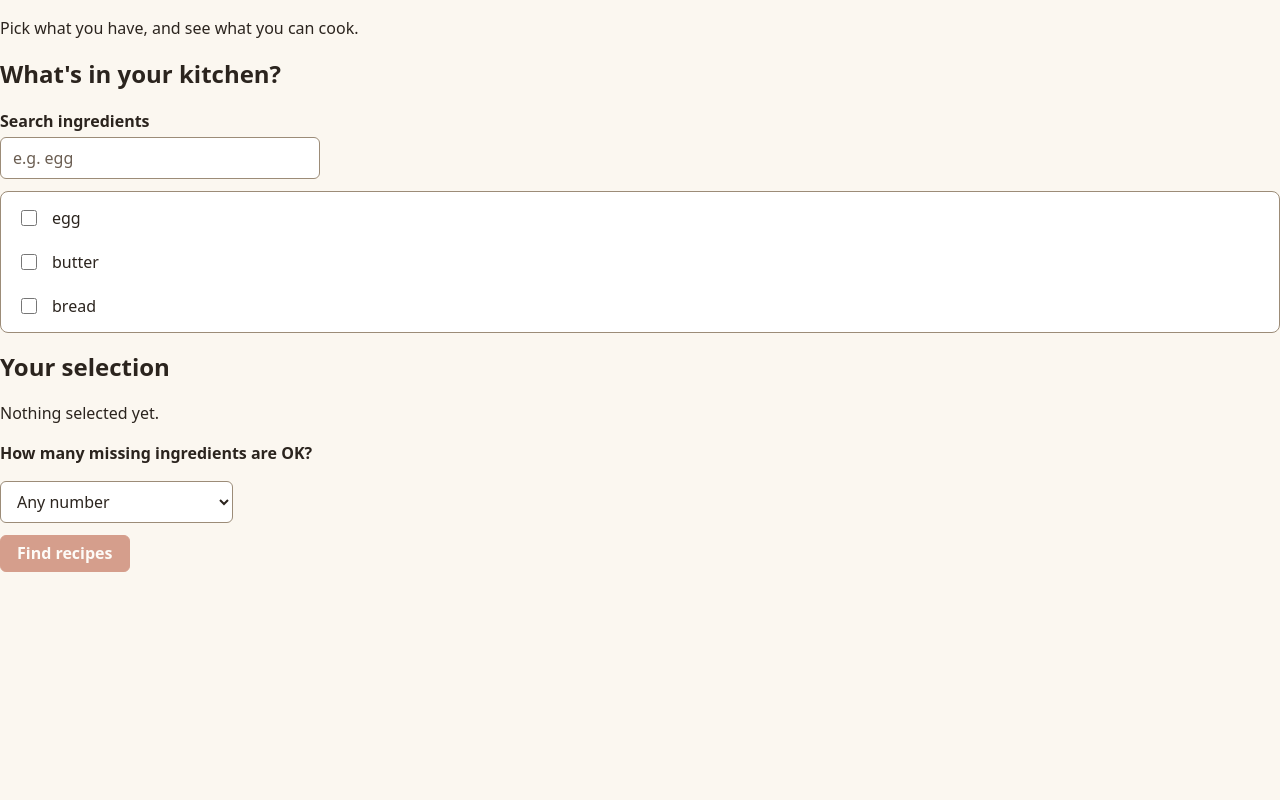
Scenario: HomePage with the real search hook › shows a failed search as an alert and lets the user search again
Click the checkbox labelled "egg" at [29, 218], box [21, 210, 37, 226]
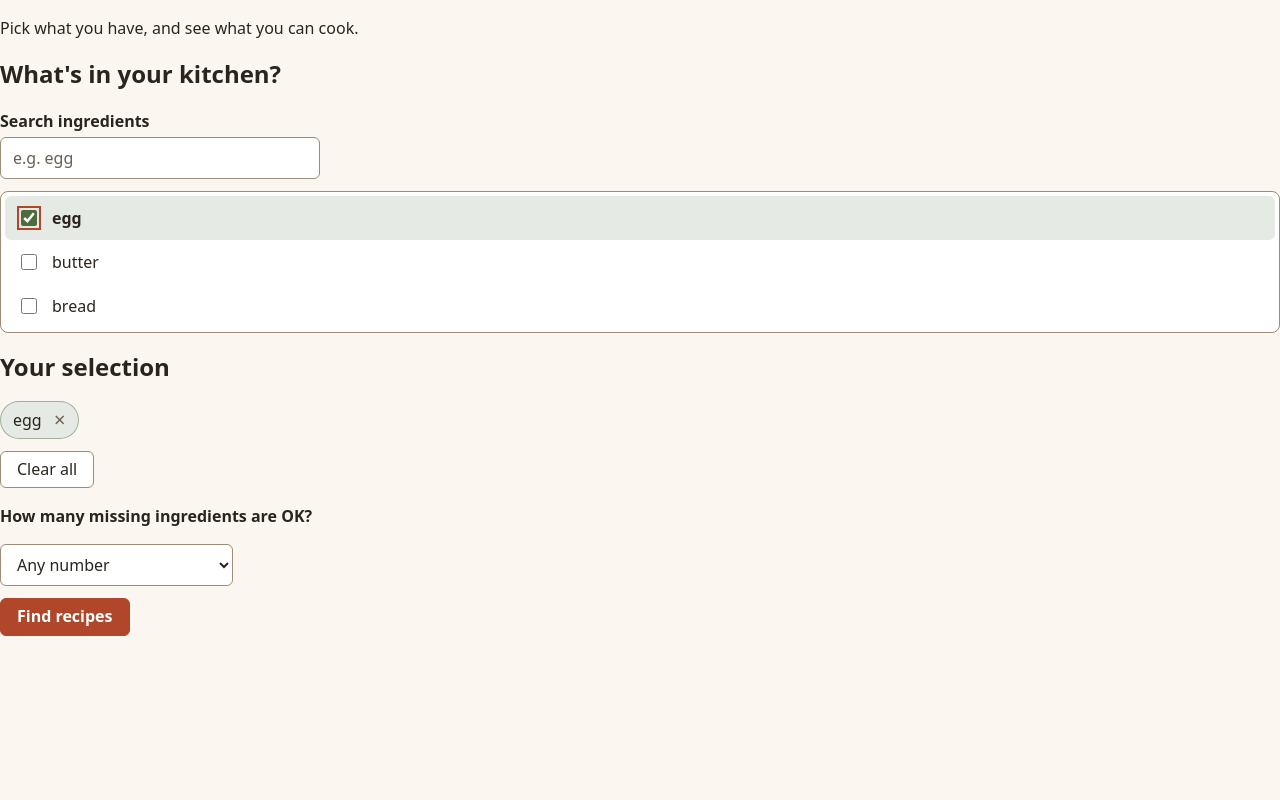
Click the button "Find recipes" at [65, 617], box [0, 598, 130, 636]
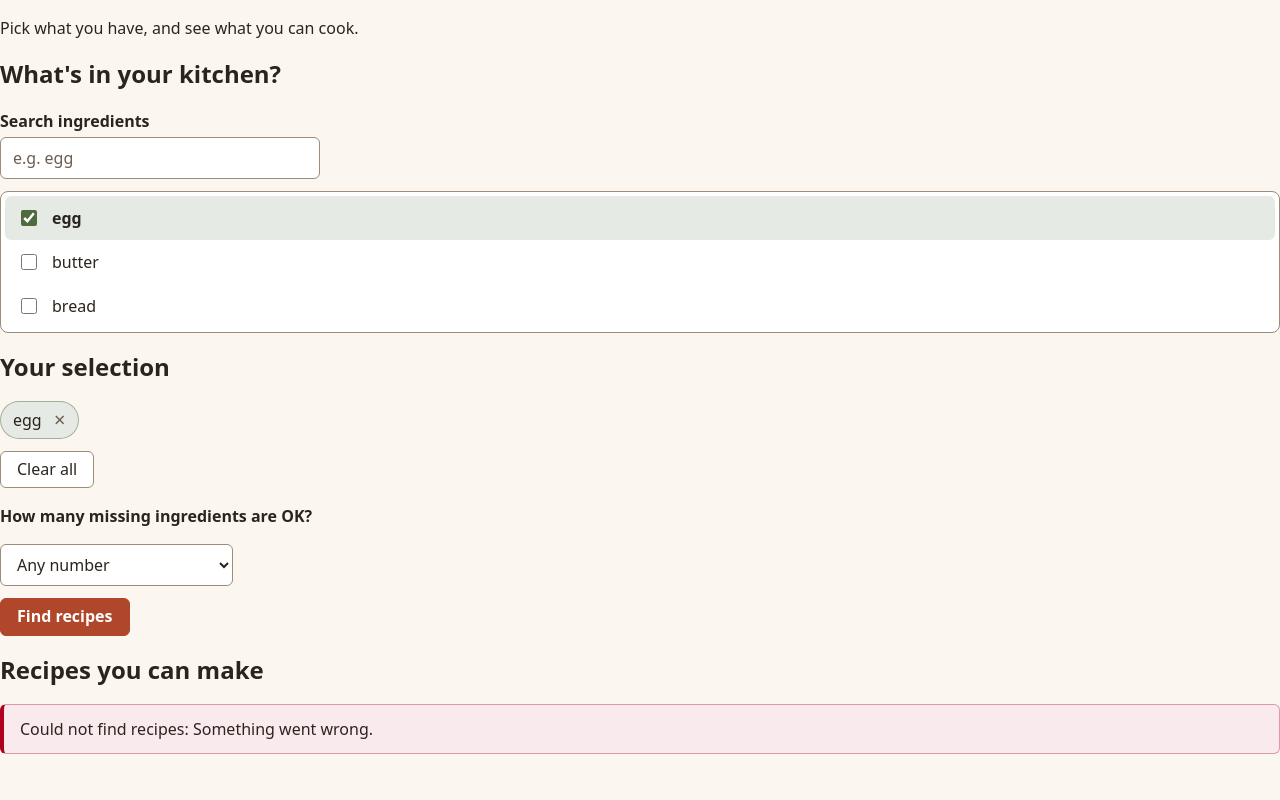
Expected: the message reads "Could not find recipes: Something went wrong.", [0, 704, 1279, 754]
Click the button "Find recipes" at [65, 617], box [0, 598, 130, 636]
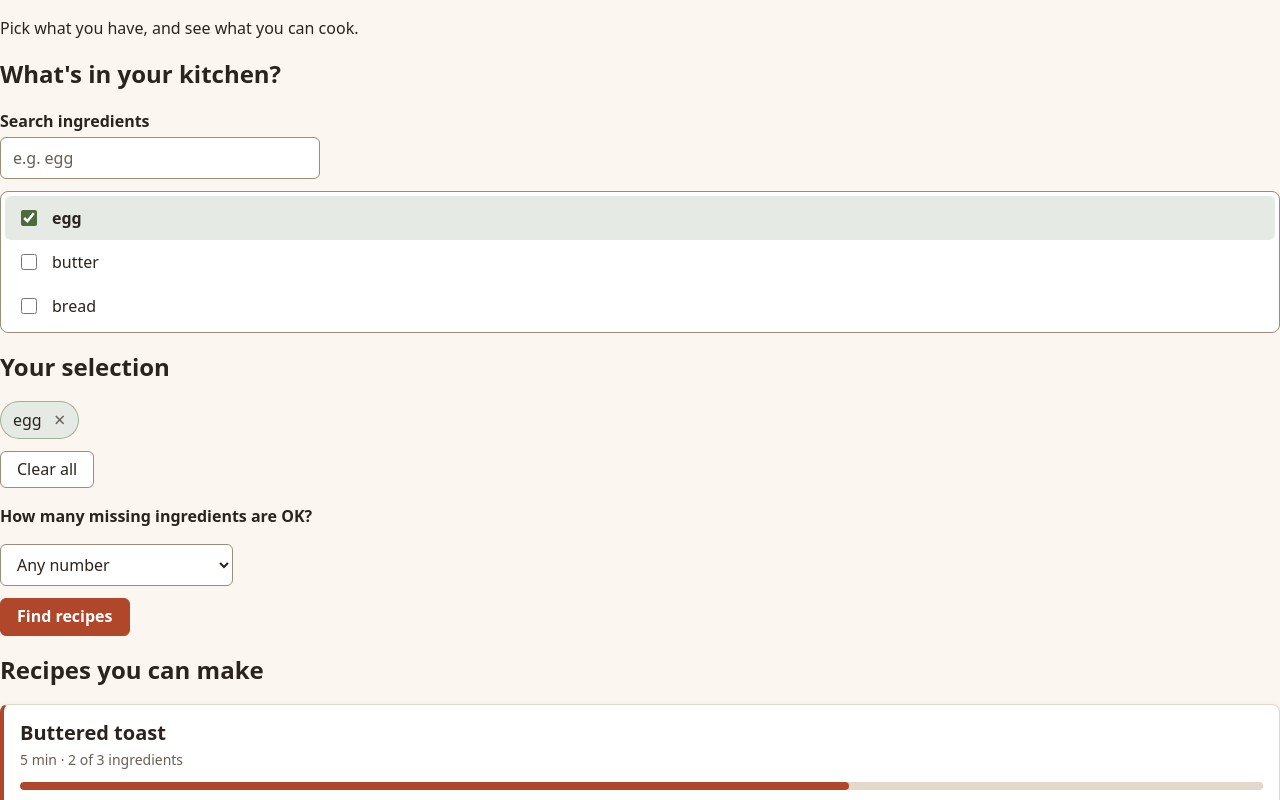
Expected: the link "Buttered toast" is shown, [20, 719, 166, 746]
